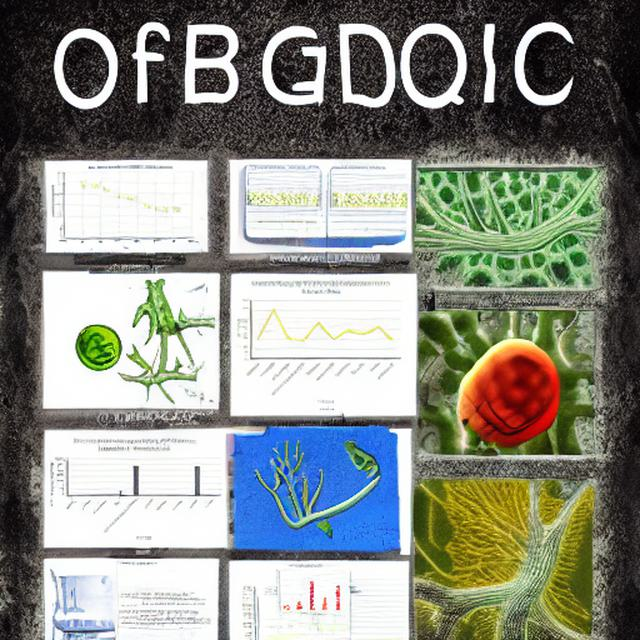Graph: (233, 275, 404, 407), (46, 435, 223, 542), (51, 163, 197, 249), (262, 563, 346, 618)
